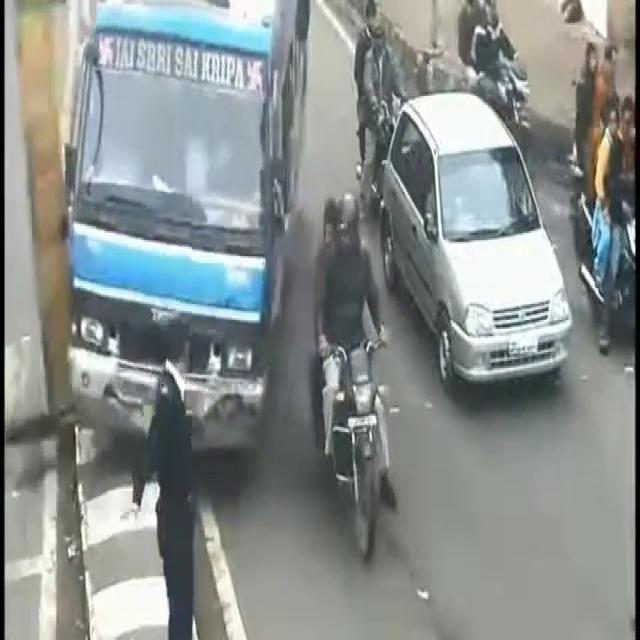accident: (40, 139, 284, 601)
